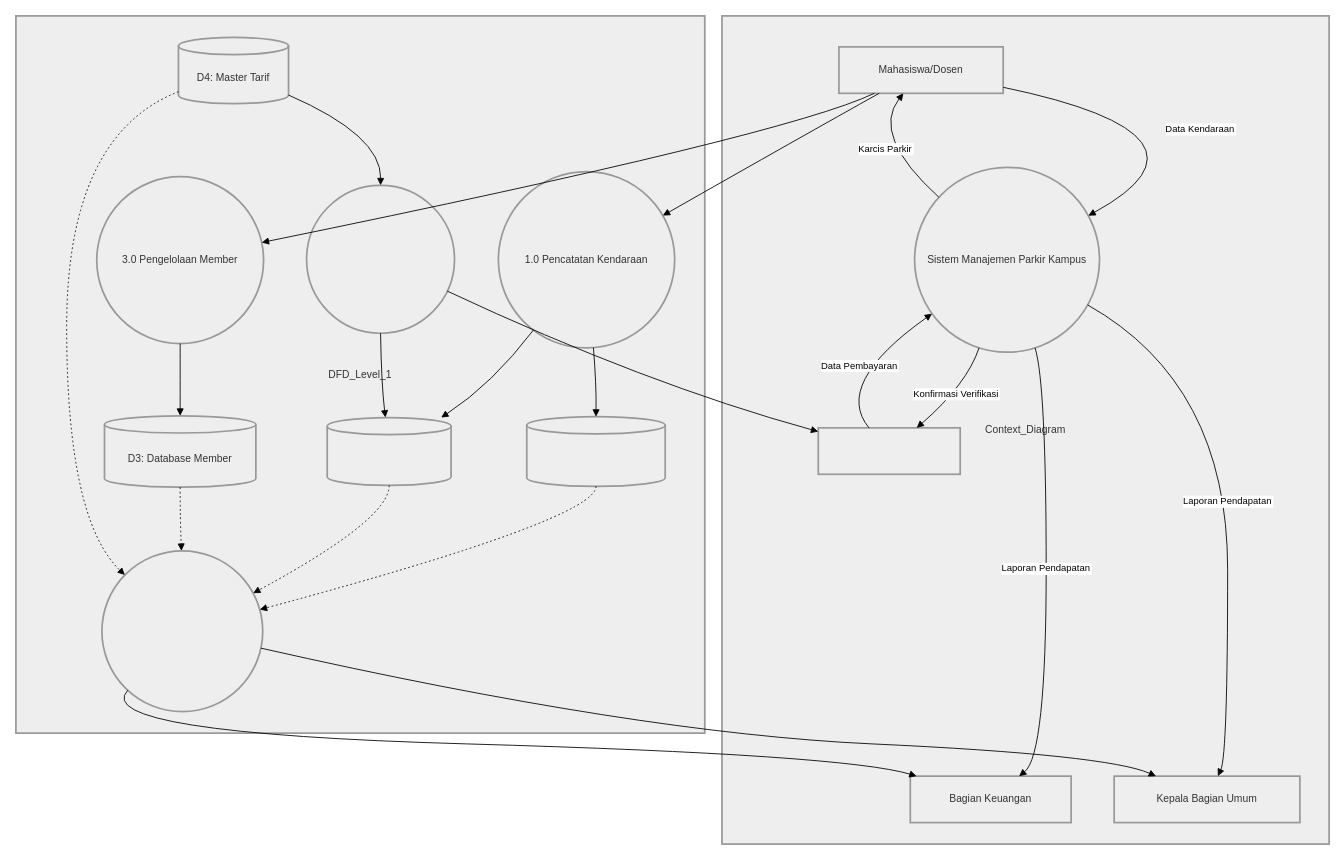
Image size: 1344x859. Some labels were removed from this diagram. The centre of each missing label's shape, as x and y in pixels:
"2.0 Perhitungan Biaya" goes at [380,259].
"4.0 Pembuatan Laporan" goes at [182,631].
"D1: Data Kendaraan" goes at [595,451].
"D2: Log Transaksi" goes at [389,451].
"Petugas Parkir" goes at [889,451].
